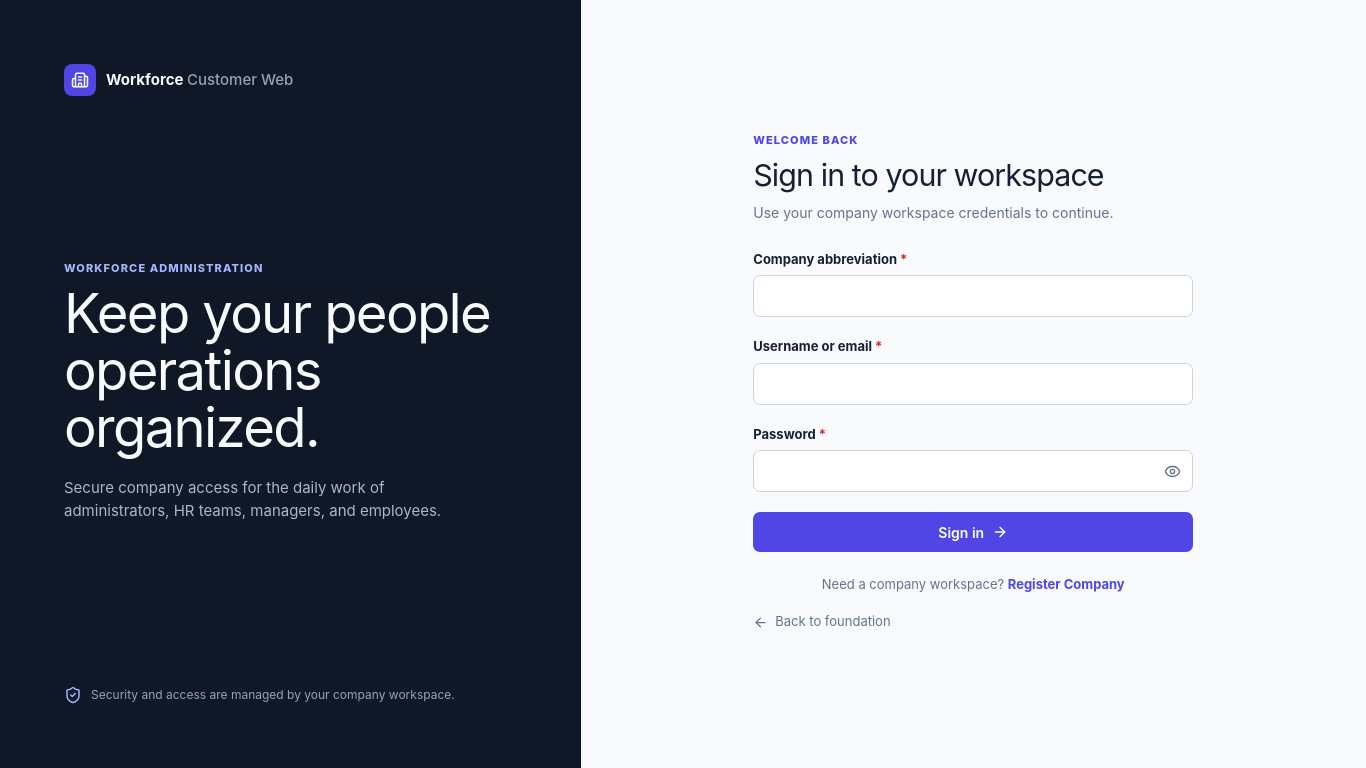
Test case: authentication frontend › validates the login form and preserves no password after a failed login
Expected: the heading "Sign in to your workspace" is shown, [753, 158, 1104, 194]
Click the button "Sign in" at (973, 532), box [753, 512, 1193, 552]
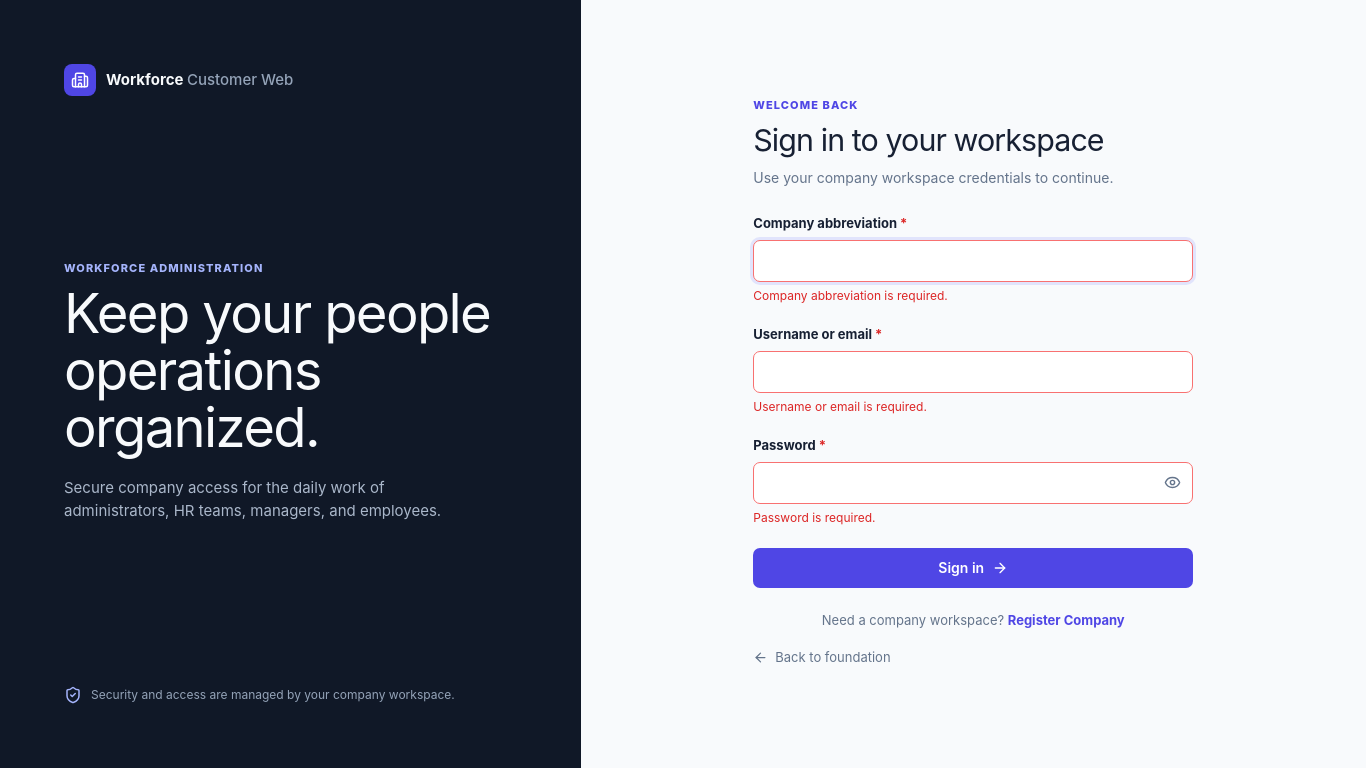
Now the text "Company abbreviation is required." is shown, box [753, 288, 948, 303]
Type "northstar" into the field labelled "Company abbreviation*" at (973, 261), box [753, 240, 1193, 282]
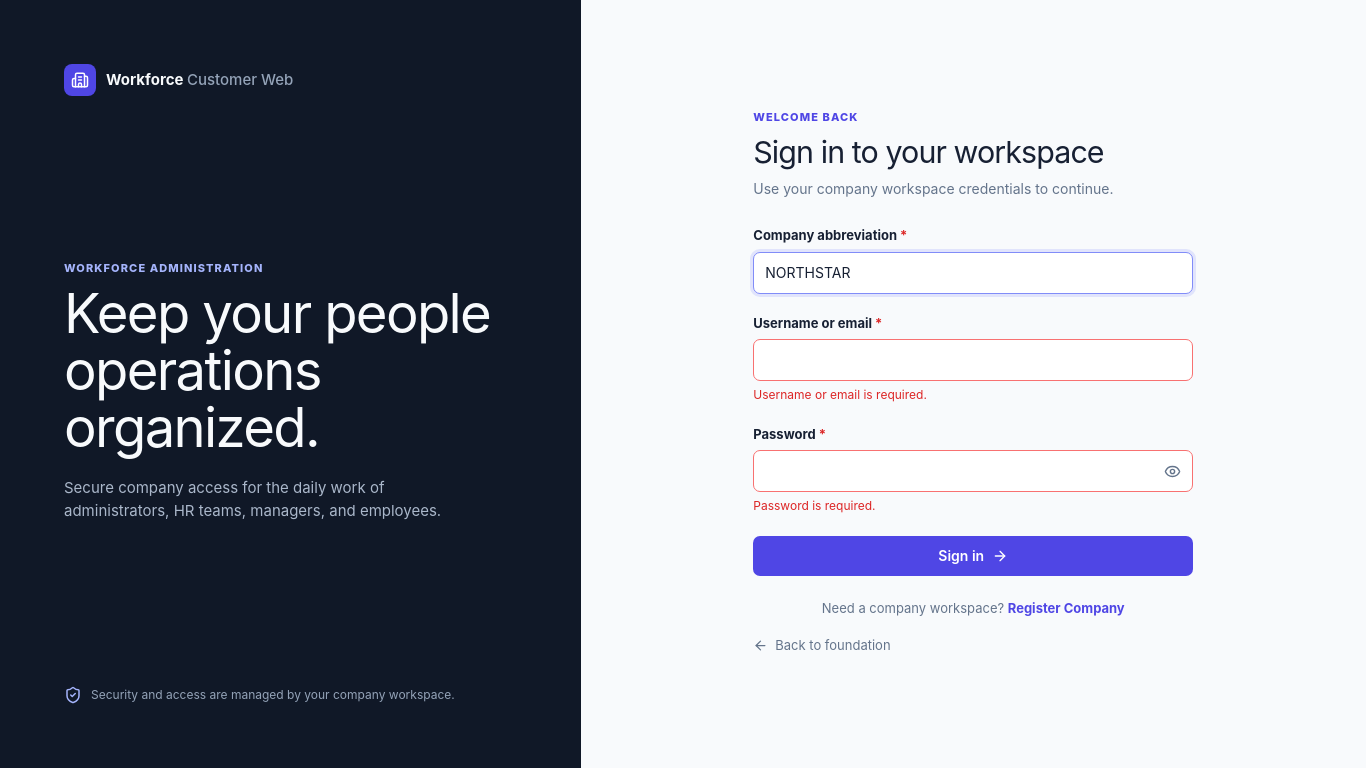
Type "admin" into the field labelled "Username or email*" at (973, 360), box [753, 339, 1193, 381]
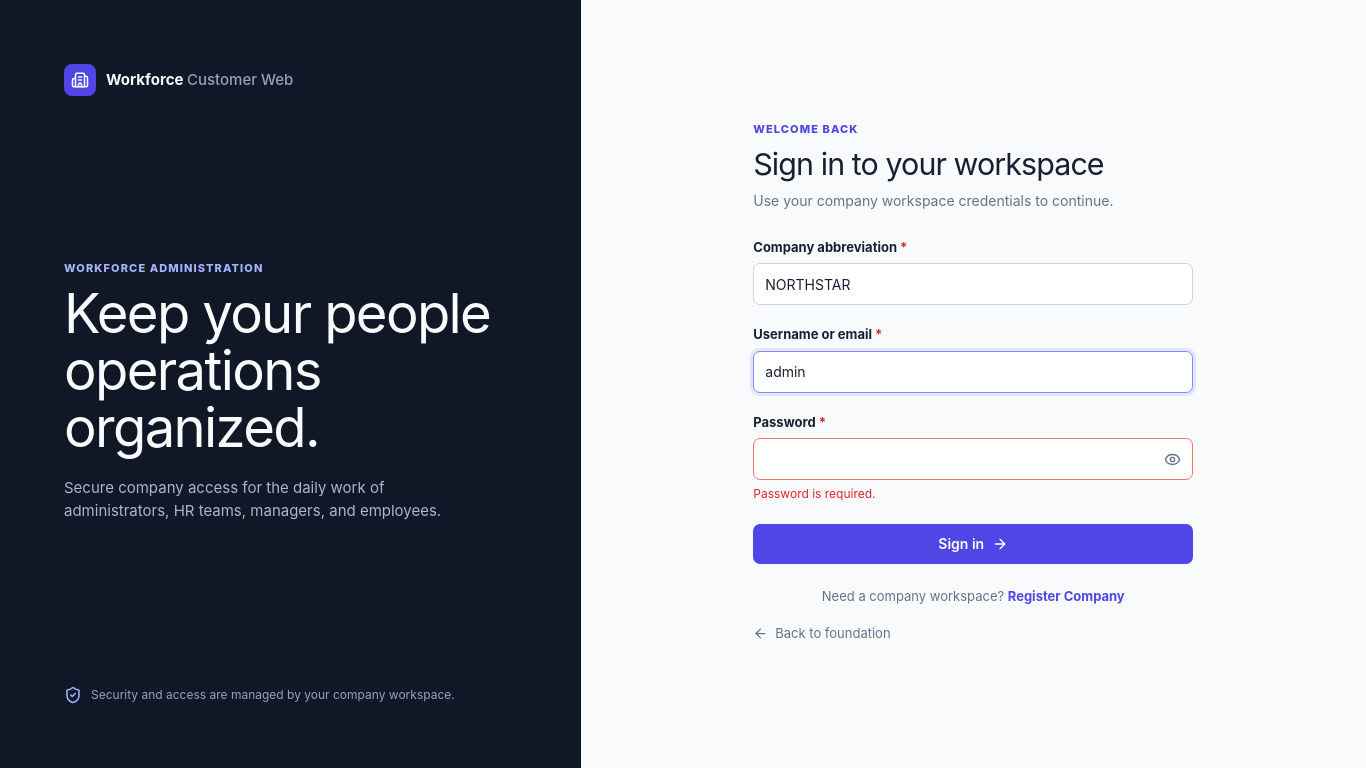
Type "WrongPassword1!" into the password field labelled "Password*" at (973, 459), box [753, 438, 1193, 480]
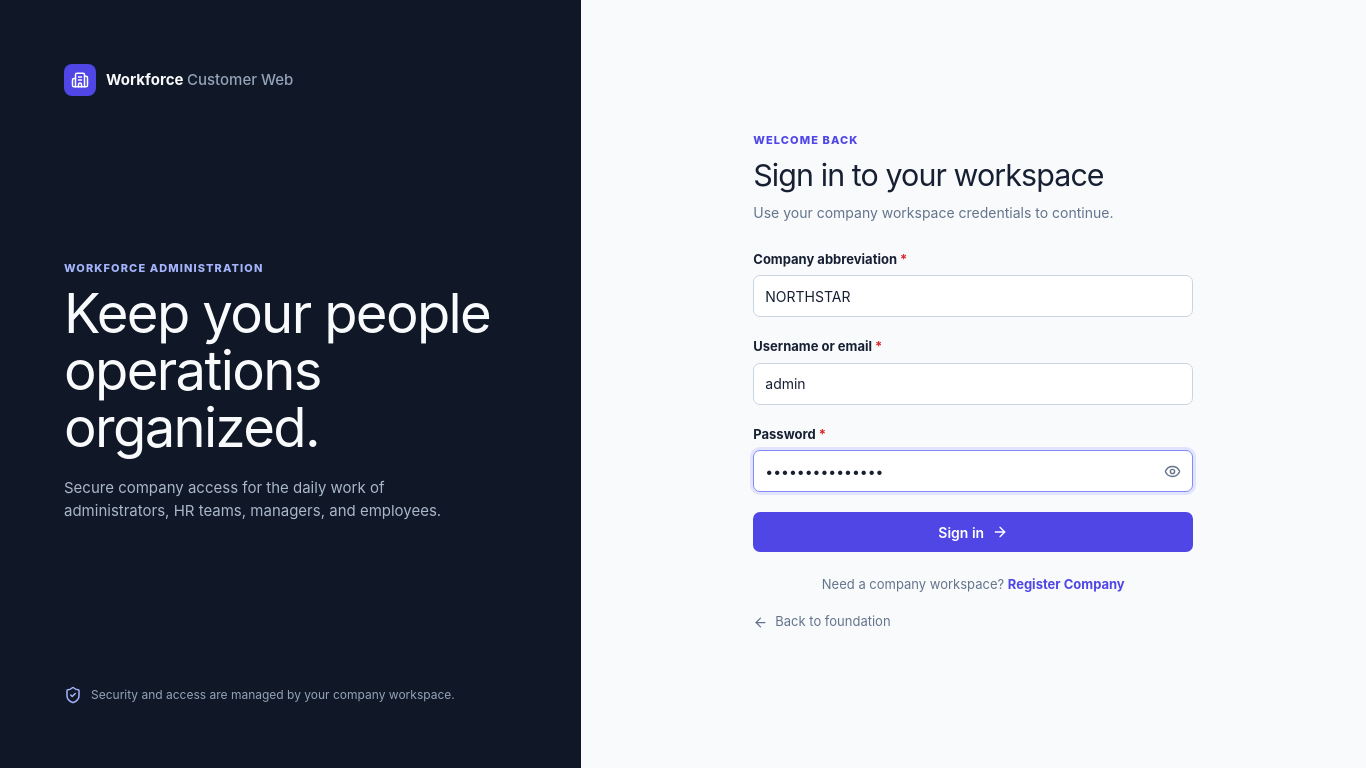
Click the button "Sign in" at (973, 532), box [753, 512, 1193, 552]
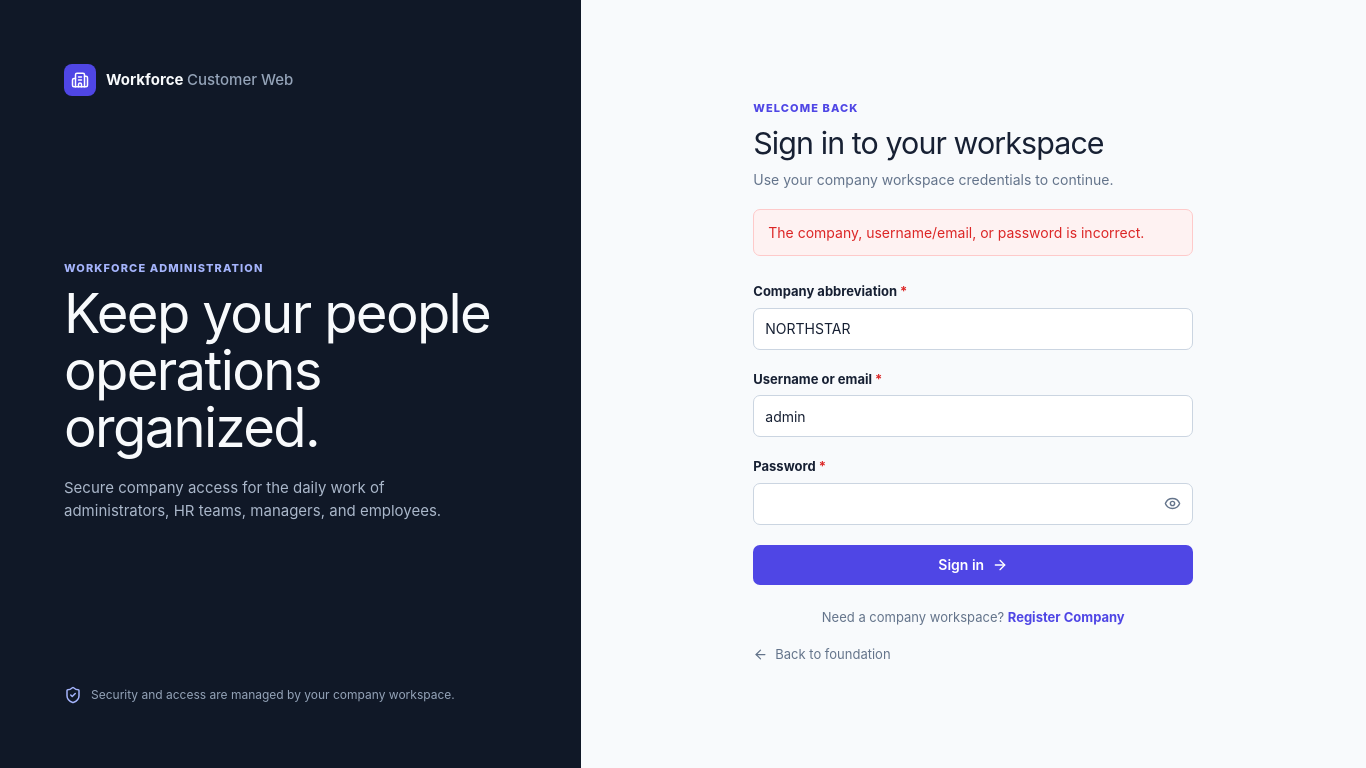
Now the text "The company, username/email, or password is incorrect." is shown, box [753, 209, 1193, 256]
Now the password field labelled "Password*" is empty, box [753, 483, 1193, 525]
